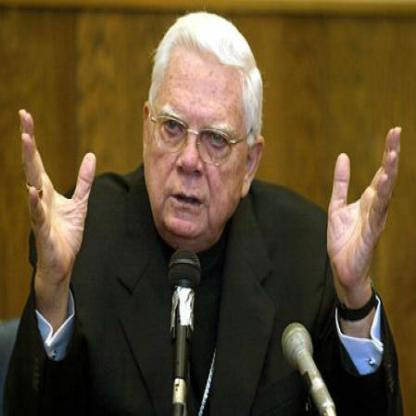face: (145, 27, 254, 242)
